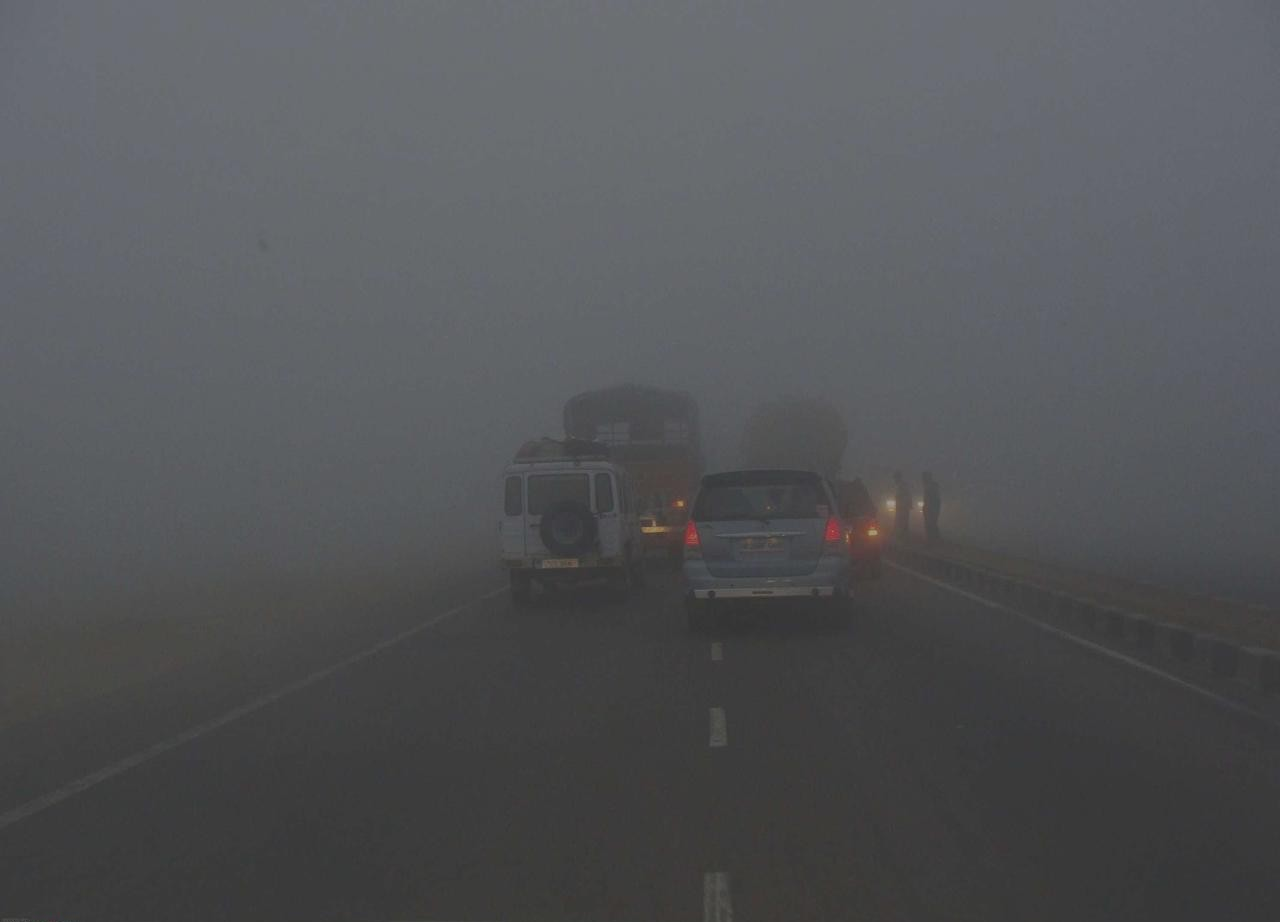car: (683, 468, 859, 624), (504, 453, 642, 601), (829, 475, 883, 586), (871, 449, 938, 527)
person: (889, 462, 914, 541), (921, 465, 941, 545)
truck: (562, 381, 692, 561), (740, 405, 848, 518)
